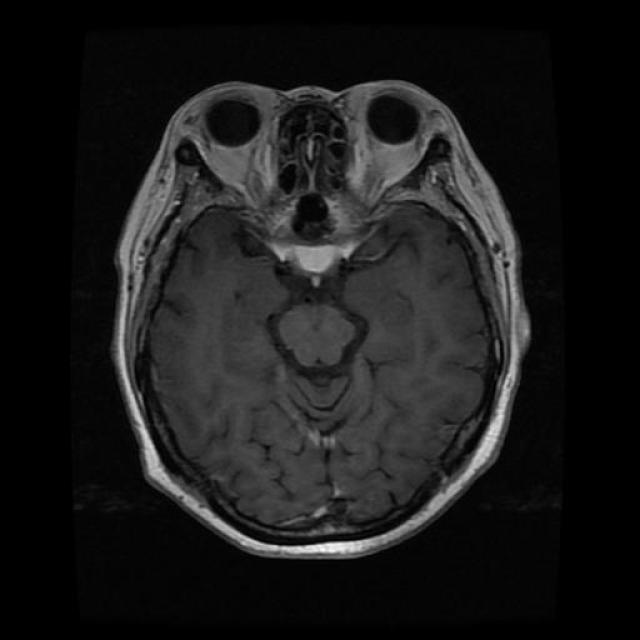meningioma: (294, 246, 342, 275)
